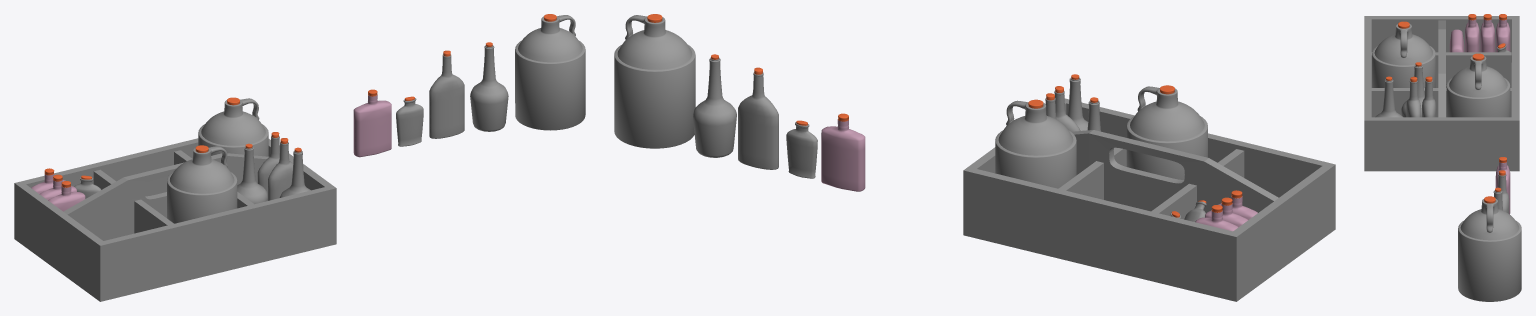
File: carrrier_box.FBX
The picture shows the model from 3 angles, left to right: view 1: azimuth 30°, elevation 25°; view 2: azimuth 150°, elevation 25°; view 3: azimuth 270°, elevation 25°; orthographic projection. The views are drawn at different scales.
Parts seen in each view (by area): view 1: Box638, bottle1_11_lp001, bottle1_21_lp, bottle1_11_lp, bottle2_11_lp001, bottle5_11_lp001, bottle3_11_lp001, bottle4_1_lp003, bottle2_21_lp, bottle5_21_lp, bottle5_11_lp, bottle2_11_lp (+1 smaller); view 2: Box638, bottle1_11_lp001, bottle1_11_lp, bottle1_21_lp, bottle2_11_lp001, bottle5_11_lp001, bottle3_11_lp001, bottle4_1_lp003, bottle5_11_lp; view 3: Box638, bottle1_11_lp001, bottle1_11_lp, bottle1_21_lp, bottle5_11_lp, bottle3_21_lp, bottle3_31_lp, bottle2_21_lp, bottle2_11_lp, bottle3_11_lp, bottle5_21_lp, bottle3_41_lp (+3 smaller).
Part boxes in pixels (bbox=[...]): Box638: bbox=[14, 138, 336, 301]; bottle1_11_lp001: bbox=[515, 15, 585, 130]; bottle1_21_lp: bbox=[167, 146, 237, 223]; bottle1_11_lp: bbox=[198, 98, 268, 156]; bottle2_11_lp001: bbox=[429, 54, 464, 138]; bottle5_11_lp001: bbox=[470, 45, 508, 131]; bottle3_11_lp001: bbox=[353, 95, 391, 157]; bottle4_1_lp003: bbox=[396, 98, 423, 146]; bottle2_21_lp: bbox=[268, 142, 293, 200]; bottle5_21_lp: bbox=[237, 146, 267, 204]; bottle5_11_lp: bbox=[279, 150, 310, 197]; bottle2_11_lp: bbox=[257, 136, 279, 200]; Box638: bbox=[963, 98, 1335, 301]; bottle1_11_lp001: bbox=[614, 15, 695, 148]; bottle1_11_lp: bbox=[995, 100, 1076, 188]; bottle1_21_lp: bbox=[1126, 86, 1207, 179]; bottle2_11_lp001: bbox=[738, 72, 778, 169]; bottle5_11_lp001: bbox=[693, 57, 736, 157]; bottle3_11_lp001: bbox=[821, 119, 865, 191]; bottle4_1_lp003: bbox=[786, 122, 817, 178]; bottle5_11_lp: bbox=[1068, 77, 1088, 130]; Box638: bbox=[1364, 16, 1519, 171]; bottle1_11_lp001: bbox=[1458, 199, 1521, 301]; bottle1_11_lp: bbox=[1446, 56, 1510, 117]; bottle1_21_lp: bbox=[1372, 24, 1435, 87]; bottle5_11_lp: bbox=[1375, 79, 1402, 117]; bottle3_21_lp: bbox=[1480, 19, 1494, 52]; bottle3_31_lp: bbox=[1465, 19, 1479, 52]; bottle2_21_lp: bbox=[1406, 80, 1421, 117]; bottle2_11_lp: bbox=[1422, 80, 1436, 117]; bottle3_11_lp: bbox=[1495, 19, 1510, 52]; bottle5_21_lp: bbox=[1401, 64, 1424, 117]; bottle3_41_lp: bbox=[1449, 29, 1464, 52].
Bounding box in the file's own units: 32.28 × 6.05 × 8.85.
